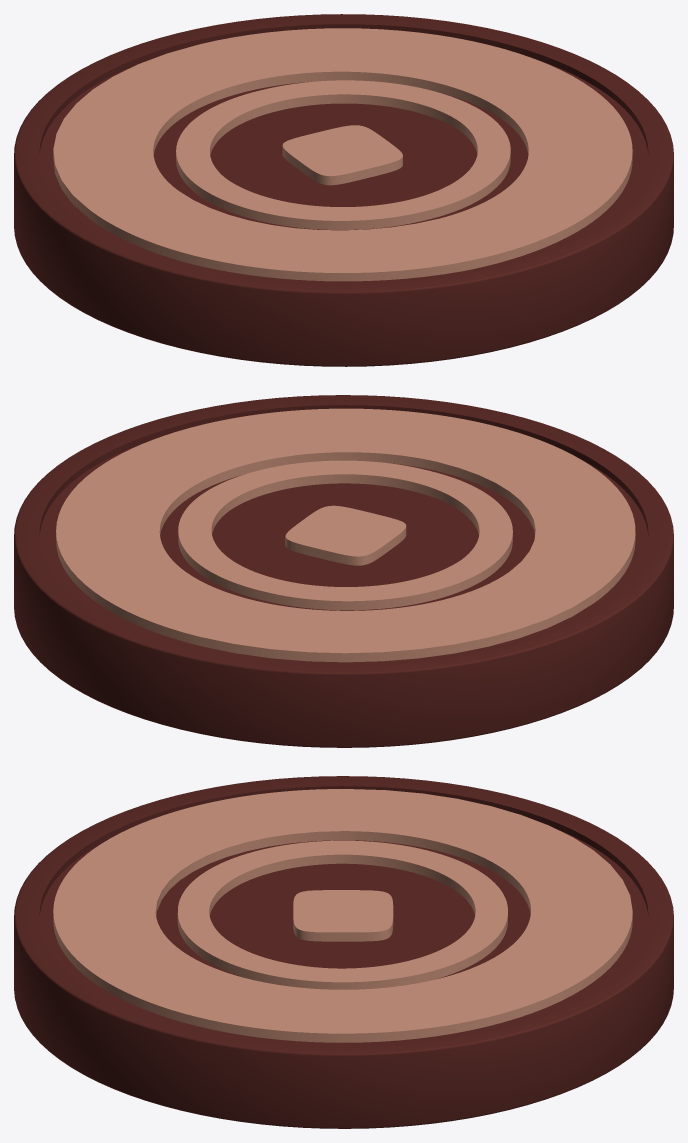
The model's file is Rock_R.fbx.
3 views of the same model, one above another, from view 1: azimuth 30°, elevation 25°; view 2: azimuth 150°, elevation 25°; view 3: azimuth 270°, elevation 25° (orthographic).
Parts seen in each view (by area): view 1: Tile09; view 2: Tile09; view 3: Tile09.
Part boxes in pixels (x1,y1,x2,y2): Tile09: (14,14,673,366); Tile09: (14,395,673,747); Tile09: (14,776,673,1128).
Bounding box in the file's own units: 13.25 × 1.73 × 13.25.
